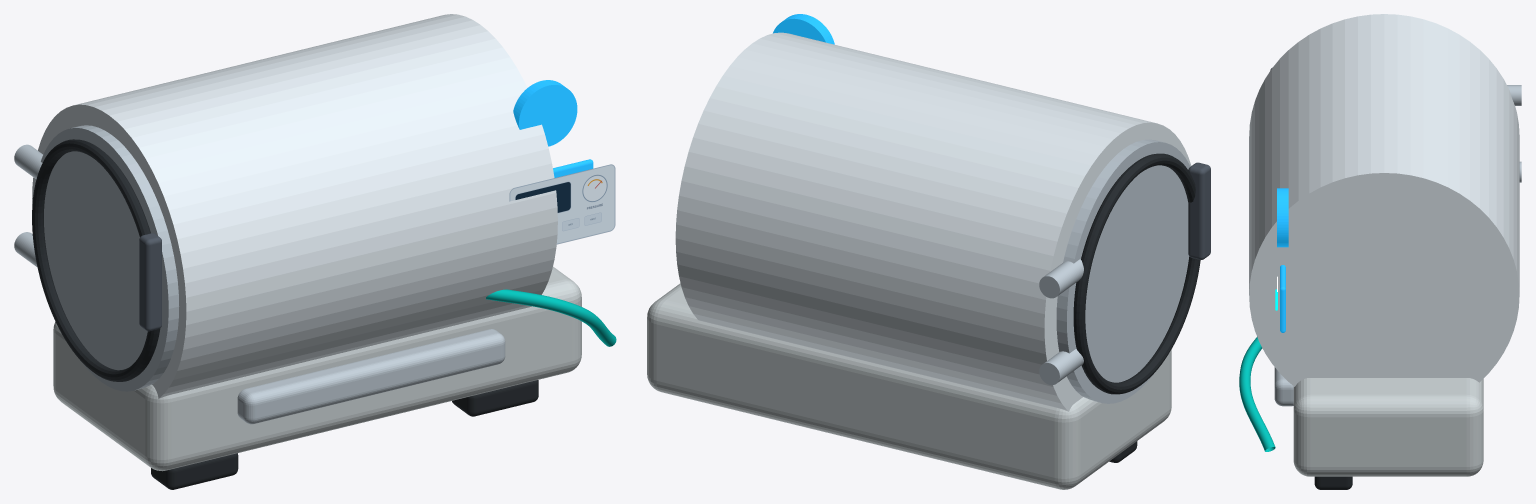
The model's file is autoclave.glb.
3 views of the same model, side by side, from view 1: azimuth 30°, elevation 25°; view 2: azimuth 150°, elevation 25°; view 3: azimuth 270°, elevation 25° (orthographic). The views are drawn at different scales.
Parts seen in each view (by area): view 1: pressure chamber, autoclave cabinet base, front door, drain rail, door gasket, photo-real autoclave control panel, gauge, door latch handle, drain tube, left autoclave foot, right autoclave foot, door hinge upper; view 2: pressure chamber, autoclave cabinet base, front door, door gasket, door latch handle, door hinge upper, gauge, door hinge lower; view 3: pressure chamber, autoclave cabinet base, drain tube, gauge, drain rail, right autoclave foot, cycle panel.
Boxes of the visible parts, x1,y1,x2,y2 form: pressure chamber: [32, 14, 557, 398]; autoclave cabinet base: [53, 266, 581, 471]; front door: [41, 125, 179, 391]; drain rail: [237, 329, 505, 424]; door gasket: [32, 139, 160, 381]; photo-real autoclave control panel: [509, 164, 615, 244]; gauge: [513, 80, 577, 146]; door latch handle: [139, 233, 161, 331]; drain tube: [486, 289, 616, 346]; left autoclave foot: [151, 453, 238, 489]; right autoclave foot: [452, 380, 538, 416]; door hinge upper: [14, 144, 42, 179]; pressure chamber: [675, 32, 1191, 411]; autoclave cabinet base: [647, 283, 1171, 489]; front door: [1056, 139, 1190, 403]; door gasket: [1073, 153, 1200, 394]; door latch handle: [1188, 162, 1210, 259]; door hinge upper: [1039, 259, 1083, 298]; gauge: [773, 14, 834, 44]; door hinge lower: [1039, 348, 1083, 385]; pressure chamber: [1249, 14, 1519, 386]; autoclave cabinet base: [1293, 378, 1483, 476]; drain tube: [1239, 337, 1275, 451]; gauge: [1277, 188, 1288, 247]; drain rail: [1274, 367, 1293, 406]; right autoclave foot: [1314, 476, 1352, 489]; cycle panel: [1280, 265, 1285, 332].
Size of the model in its own units: 2.24 by 1.62 by 1.34.
10 materials, 1 textured.
